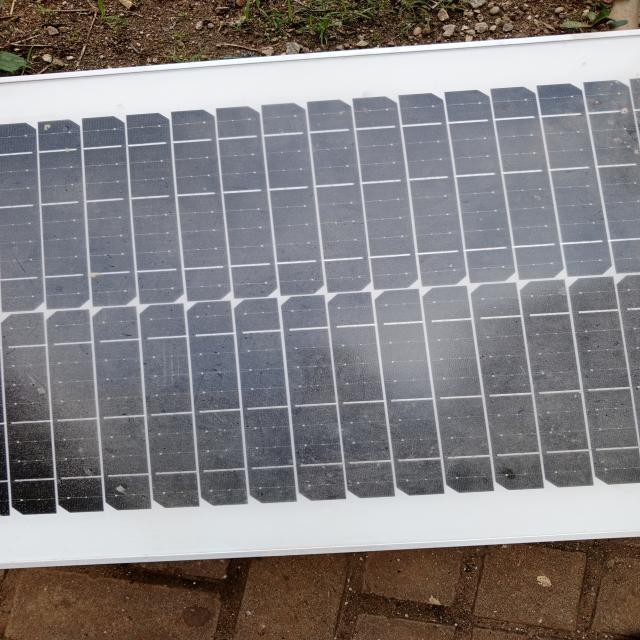Anomaly Solar Panel: (0, 98, 640, 512)
Surface Contaminant: (14, 111, 639, 483)
